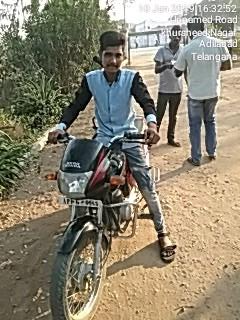plate: (53, 194, 103, 211)
